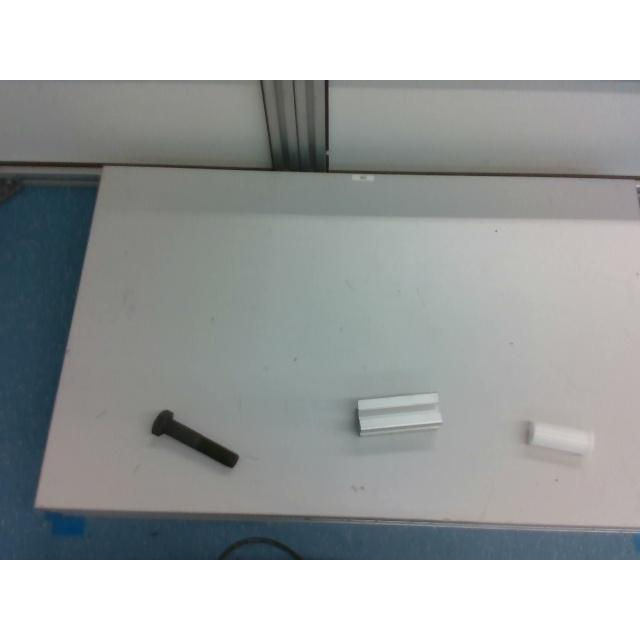M20_100: (150, 409, 238, 466)
S40_40_G: (354, 392, 442, 436)
Spacer: (526, 421, 594, 455)
